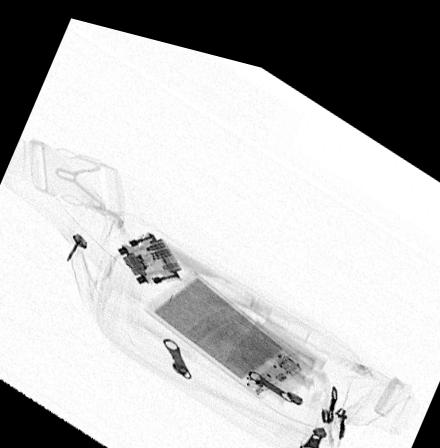Powerbank: (145, 262, 309, 387)
